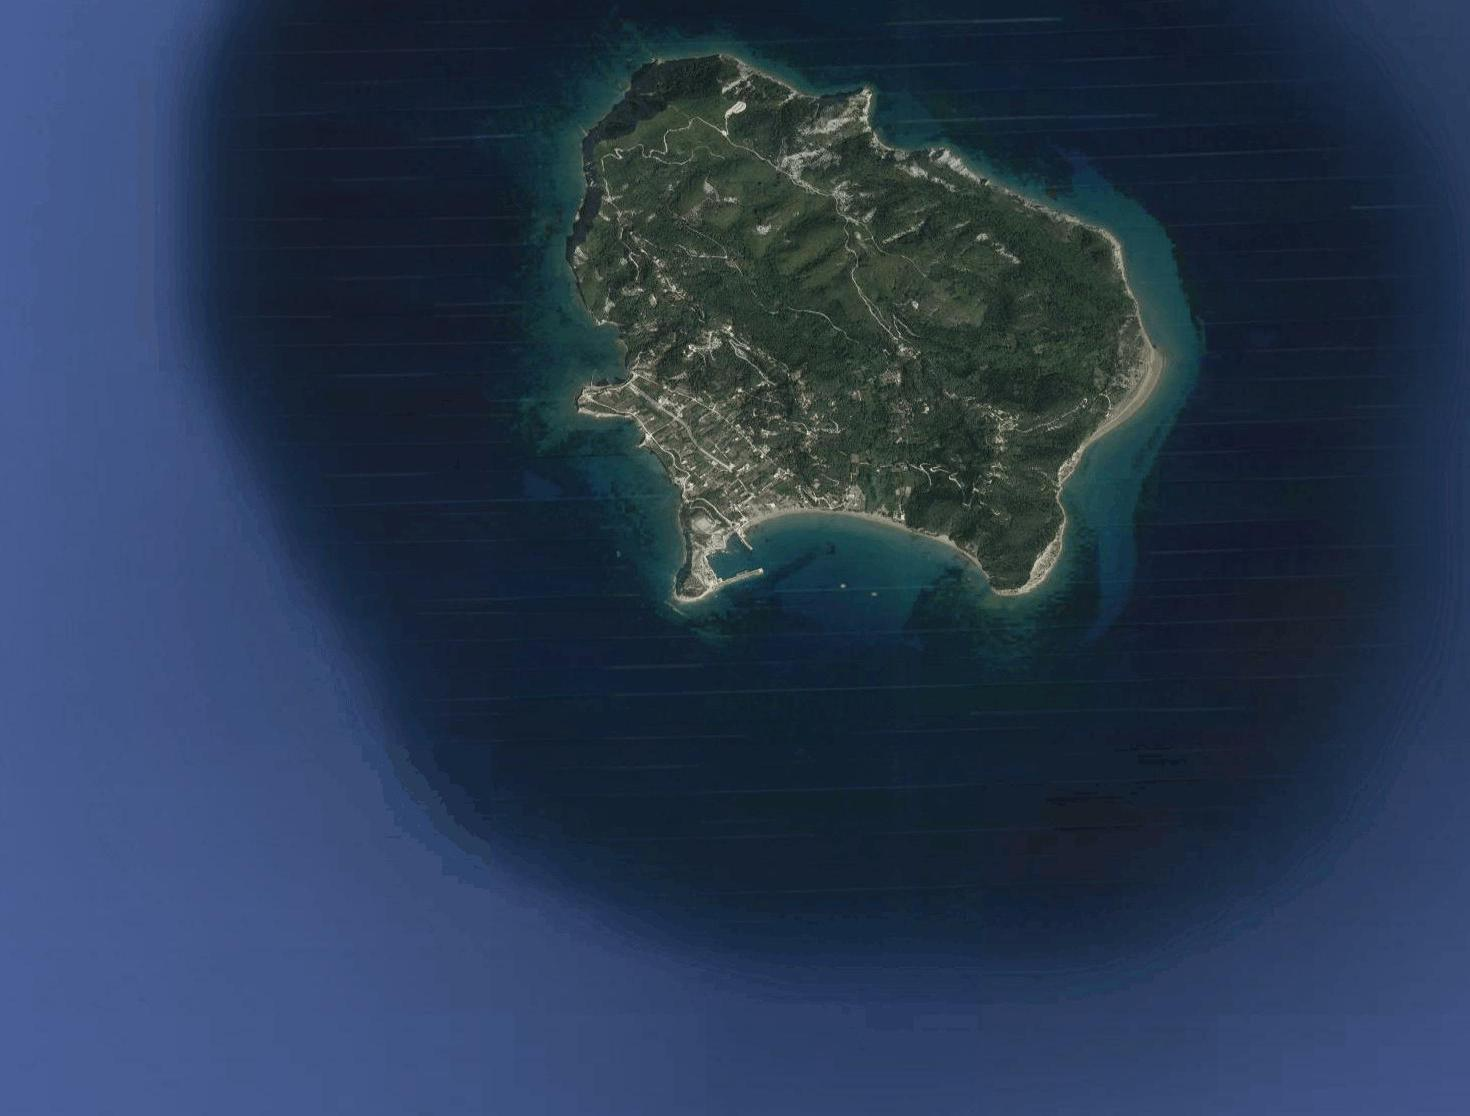harbor: (697, 523, 773, 594)
